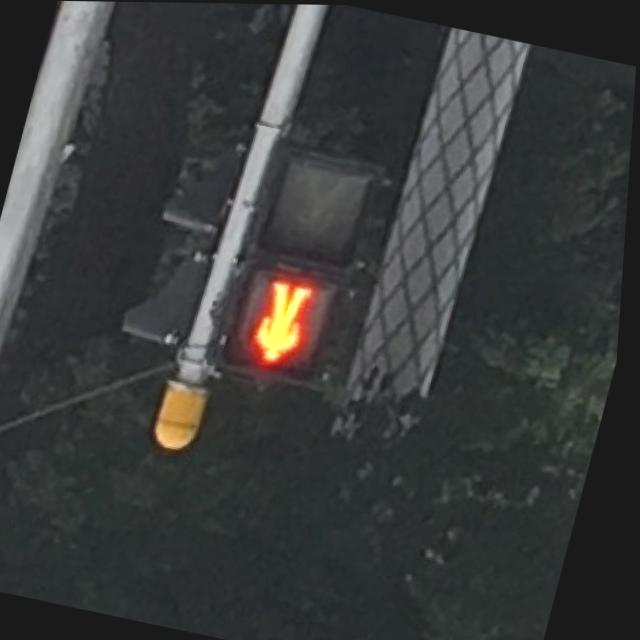red_light: (226, 261, 340, 385)
